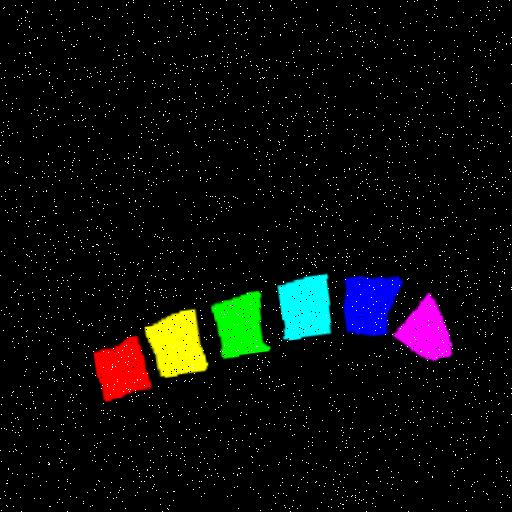L1: (94, 335, 149, 399)
L2: (144, 308, 206, 376)
L3: (212, 292, 267, 357)
L4: (276, 274, 330, 339)
L5: (344, 275, 399, 334)
S1: (392, 293, 450, 359)
